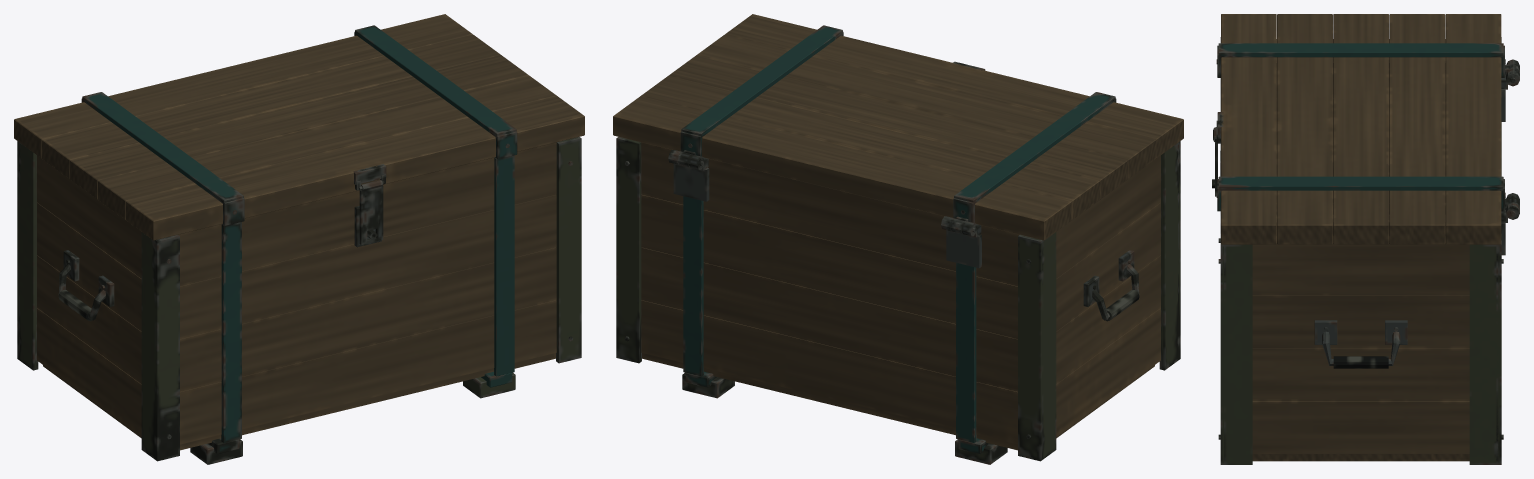
The model's file is reinforced_wood_chest.glb.
3 views of the same model, side by side, from view 1: azimuth 30°, elevation 25°; view 2: azimuth 150°, elevation 25°; view 3: azimuth 270°, elevation 25° (orthographic).
Parts seen in each view (by area): view 1: ChestBody, ChestLid, ChestHasp; view 2: ChestBody, ChestLid; view 3: ChestLid, ChestBody.
Boxes of the visible parts, x1,y1,x2,y2 form: ChestBody: (17,137,581,464); ChestLid: (14,14,584,240); ChestHasp: (359,180,383,244); ChestBody: (616,137,1180,464); ChestLid: (613,14,1183,240); ChestLid: (1215,14,1519,244); ChestBody: (1212,37,1519,464).
Size of what is drawn, in the model's own units: 1.2 by 0.68 by 0.702.
1 material, 1 textured.
